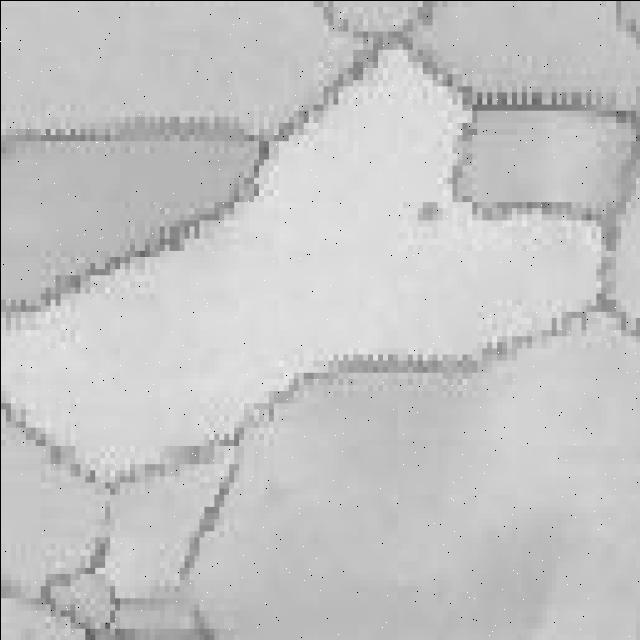good_void: (416, 197, 446, 229)
